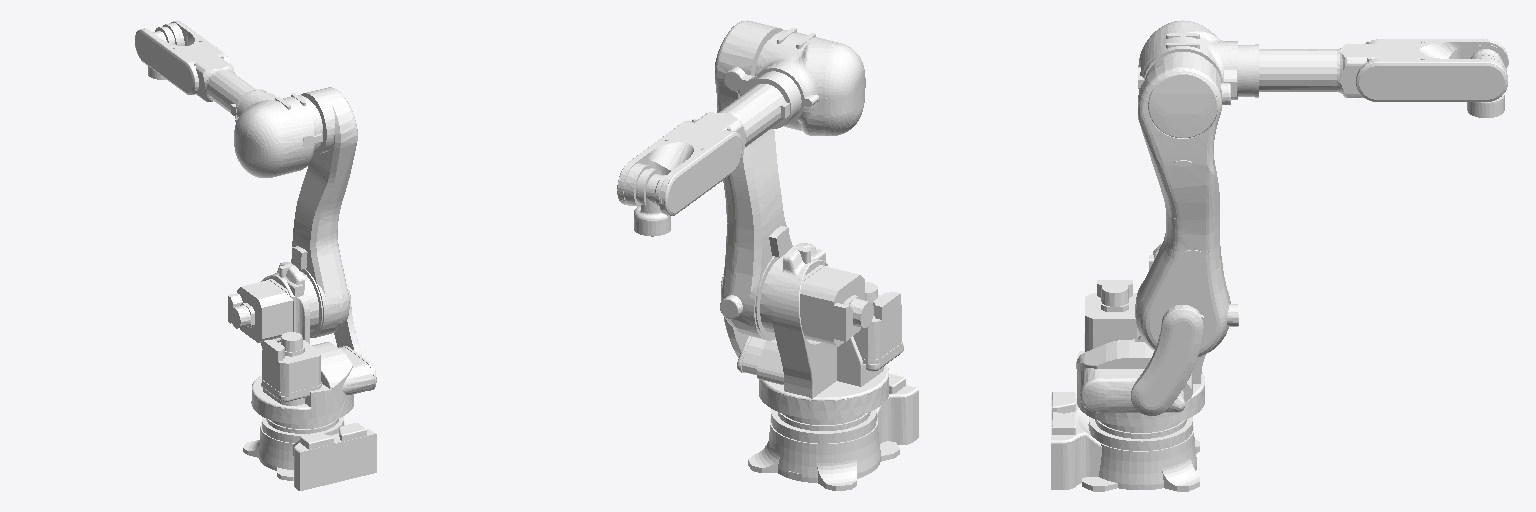
robot.urdf — RS050N:
<?xml version="1.0" encoding="utf-8"?>
<!-- This URDF was automatically created by SolidWorks to URDF Exporter! Originally created by [author] ([email redacted]) 
     Commit Version: 1.6.0-1-g15f4949  Build Version: 1.6.7594.29634
     For more information, please see http://wiki.ros.org/sw_urdf_exporter -->
<robot
  name="RS050N">
  <link
    name="base_link">
    <inertial>
      <origin
        xyz="0.00742648077812003 0.130532781305898 0.539889091899929"
        rpy="0 0 0" />
      <mass
        value="69.2070622813774" />
      <inertia
        ixx="12.9227817485323"
        ixy="-0.158175525824521"
        ixz="0.106068509088432"
        iyy="5.71291707523663"
        iyz="-5.22586394861461"
        izz="9.78091264066812" />
    </inertial>
    <visual>
      <origin
        xyz="0 0 0"
        rpy="0 0 0" />
      <geometry>
        <mesh
          filename="package://RS050N/meshes/base_link.STL" />
      </geometry>
      <material
        name="">
        <color
          rgba="1 1 1 1" />
      </material>
    </visual>
    <collision>
      <origin
        xyz="0 0 0"
        rpy="0 0 0" />
      <geometry>
        <mesh
          filename="package://RS050N/meshes/base_link.STL" />
      </geometry>
    </collision>
  </link>
  <link
    name="link1">
    <inertial>
      <origin
        xyz="0.0053223001572111 0.0323676928198307 0.229852478564141"
        rpy="0 0 0" />
      <mass
        value="63.5345279442379" />
      <inertia
        ixx="2.52682716104238"
        ixy="0.00204857333931697"
        ixz="0.207966622157758"
        iyy="2.54103506695411"
        iyz="-0.581518601705952"
        izz="2.04518113651926" />
    </inertial>
    <visual>
      <origin
        xyz="0 0 0"
        rpy="0 0 0" />
      <geometry>
        <mesh
          filename="package://RS050N/meshes/link1.STL" />
      </geometry>
      <material
        name="">
        <color
          rgba="1 1 1 1" />
      </material>
    </visual>
    <collision>
      <origin
        xyz="0 0 0"
        rpy="0 0 0" />
      <geometry>
        <mesh
          filename="package://RS050N/meshes/link1.STL" />
      </geometry>
    </collision>
  </link>
  <joint
    name="link1"
    type="revolute">
    <origin
      xyz="0 0 0.249"
      rpy="0 0 0" />
    <parent
      link="base_link" />
    <child
      link="link1" />
    <axis
      xyz="0 0 -1" />
    <limit
      lower="-6.28318530717959"
      upper="6.28318530717959"
      effort="0"
      velocity="0" />
  </joint>
  <link
    name="link2">
    <inertial>
      <origin
        xyz="-0.0840727368921679 -0.0196159709826695 -0.14021412782126"
        rpy="0 0 0" />
      <mass
        value="69.2070622813774" />
      <inertia
        ixx="12.9227817485323"
        ixy="-0.158175525824521"
        ixz="0.106068509088433"
        iyy="5.71291707523663"
        iyz="-5.22586394861461"
        izz="9.78091264066812" />
    </inertial>
    <visual>
      <origin
        xyz="0 0 0"
        rpy="0 0 0" />
      <geometry>
        <mesh
          filename="package://RS050N/meshes/link2.STL" />
      </geometry>
      <material
        name="">
        <color
          rgba="1 1 1 1" />
      </material>
    </visual>
    <collision>
      <origin
        xyz="0 0 0"
        rpy="0 0 0" />
      <geometry>
        <mesh
          filename="package://RS050N/meshes/link2.STL" />
      </geometry>
    </collision>
  </link>
  <joint
    name="link2"
    type="revolute">
    <origin
      xyz="0.0915 0.15015 0.4311"
      rpy="0 0 0" />
    <parent
      link="link1" />
    <child
      link="link2" />
    <axis
      xyz="-1 0 0" />
    <limit
      lower="-6.28318530717959"
      upper="6.28318530717959"
      effort="0"
      velocity="0" />
  </joint>
  <link
    name="link3">
    <inertial>
      <origin
        xyz="-0.122572736892168 -0.0194667900963776 -1.01011090809545"
        rpy="0 0 0" />
      <mass
        value="69.2070622813774" />
      <inertia
        ixx="12.9227817485323"
        ixy="-0.158175525824521"
        ixz="0.106068509088433"
        iyy="5.71291707523663"
        iyz="-5.22586394861461"
        izz="9.78091264066812" />
    </inertial>
    <visual>
      <origin
        xyz="0 0 0"
        rpy="0 0 0" />
      <geometry>
        <mesh
          filename="package://RS050N/meshes/link3.STL" />
      </geometry>
      <material
        name="">
        <color
          rgba="1 1 1 1" />
      </material>
    </visual>
    <collision>
      <origin
        xyz="0 0 0"
        rpy="0 0 0" />
      <geometry>
        <mesh
          filename="package://RS050N/meshes/link3.STL" />
      </geometry>
    </collision>
  </link>
  <joint
    name="link3"
    type="revolute">
    <origin
      xyz="0.0385 -0.00014918 0.8699"
      rpy="0 0 0" />
    <parent
      link="link2" />
    <child
      link="link3" />
    <axis
      xyz="-1 0 0" />
    <limit
      lower="-6.28318530717959"
      upper="6.28318530717959"
      effort="0"
      velocity="0" />
  </joint>
  <link
    name="link4">
    <inertial>
      <origin
        xyz="0.0224272630844705 -0.21396679009824 -1.01011090808671"
        rpy="0 0 0" />
      <mass
        value="69.2070622813774" />
      <inertia
        ixx="12.9227817485323"
        ixy="-0.158175525824521"
        ixz="0.106068509088433"
        iyy="5.71291707523663"
        iyz="-5.22586394861461"
        izz="9.78091264066812" />
    </inertial>
    <visual>
      <origin
        xyz="0 0 0"
        rpy="0 0 0" />
      <geometry>
        <mesh
          filename="package://RS050N/meshes/link4.STL" />
      </geometry>
      <material
        name="">
        <color
          rgba="1 1 1 1" />
      </material>
    </visual>
    <collision>
      <origin
        xyz="0 0 0"
        rpy="0 0 0" />
      <geometry>
        <mesh
          filename="package://RS050N/meshes/link4.STL" />
      </geometry>
    </collision>
  </link>
  <joint
    name="link4"
    type="revolute">
    <origin
      xyz="-0.145 0.1945 0"
      rpy="0 0 0" />
    <parent
      link="link3" />
    <child
      link="link4" />
    <axis
      xyz="0 -1 0" />
    <limit
      lower="-6.28318530717959"
      upper="6.28318530717959"
      effort="0"
      velocity="0" />
  </joint>
  <link
    name="link5">
    <inertial>
      <origin
        xyz="0.00742726310783219 -1.09946702890103 -1.0101109081466"
        rpy="0 0 0" />
      <mass
        value="69.2070622813774" />
      <inertia
        ixx="12.9227817485323"
        ixy="-0.158175525824521"
        ixz="0.106068509088433"
        iyy="5.71291707523663"
        iyz="-5.22586394861461"
        izz="9.78091264066811" />
    </inertial>
    <visual>
      <origin
        xyz="0 0 0"
        rpy="0 0 0" />
      <geometry>
        <mesh
          filename="package://RS050N/meshes/link5.STL" />
      </geometry>
      <material
        name="">
        <color
          rgba="1 1 1 1" />
      </material>
    </visual>
    <collision>
      <origin
        xyz="0 0 0"
        rpy="0 0 0" />
      <geometry>
        <mesh
          filename="package://RS050N/meshes/link5.STL" />
      </geometry>
    </collision>
  </link>
  <joint
    name="link5"
    type="revolute">
    <origin
      xyz="0.015 0.8855 0"
      rpy="0 0 0" />
    <parent
      link="link4" />
    <child
      link="link5" />
    <axis
      xyz="-1 0 0" />
    <limit
      lower="-6.28318530717959"
      upper="6.28318530717959"
      effort="0"
      velocity="0" />
  </joint>
  <link
    name="link6">
    <inertial>
      <origin
        xyz="0.0460112341158396 -3.7805156960502E-06 -0.170988870920515"
        rpy="0 0 0" />
      <mass
        value="5.67263850688101" />
      <inertia
        ixx="0.00856568804371597"
        ixy="2.36182117287567E-08"
        ixz="2.5802982892614E-07"
        iyy="0.0617988129237675"
        iyz="7.03772837560501E-07"
        izz="0.066925691103506" />
    </inertial>
    <visual>
      <origin
        xyz="0 0 0"
        rpy="0 0 0" />
      <geometry>
        <mesh
          filename="package://RS050N/meshes/link6.STL" />
      </geometry>
      <material
        name="">
        <color
          rgba="0.752941176470588 0.752941176470588 0.752941176470588 1" />
      </material>
    </visual>
    <collision>
      <origin
        xyz="0 0 0"
        rpy="0 0 0" />
      <geometry>
        <mesh
          filename="package://RS050N/meshes/link6.STL" />
      </geometry>
    </collision>
  </link>
  <joint
    name="link6"
    type="revolute">
    <origin
      xyz="-0.015 0 -0.1555"
      rpy="0 0 0" />
    <parent
      link="link5" />
    <child
      link="link6" />
    <axis
      xyz="0 0 -1" />
    <limit
      lower="-6.28318530717959"
      upper="6.28318530717959"
      effort="0"
      velocity="0" />
  </joint>
</robot>

--- Facts derived from the render (not from the file) ---
Views: 3 orthographic renders of the robot side by side, from view 1: azimuth 30°, elevation 25°; view 2: azimuth 150°, elevation 25°; view 3: azimuth 270°, elevation 25°.
Robot: RS050N — 7 links, 6 joints (6 revolute); root link base_link; default pose: every joint at zero.
Links seen in each view (by area): view 1: link1, link2, base_link, link3, link4; view 2: link1, link2, base_link, link4, link3, link5; view 3: link2, link1, link4, base_link, link3, link5.
Link boxes in pixels (box(x1,y1,x2,y2)): link1: box(228, 262, 376, 424); link2: box(291, 87, 357, 337); base_link: box(243, 416, 376, 490); link3: box(234, 89, 322, 177); link4: box(135, 21, 254, 115); link1: box(721, 243, 903, 419); link2: box(715, 20, 792, 340); base_link: box(748, 374, 918, 490); link4: box(617, 84, 789, 215); link3: box(740, 28, 865, 135); link5: box(629, 164, 670, 235); link2: box(1135, 52, 1238, 357); link1: box(1076, 244, 1205, 427); link4: box(1259, 39, 1508, 101); base_link: box(1051, 392, 1199, 491); link3: box(1138, 20, 1258, 99); link5: box(1467, 49, 1506, 117).
Bounding box of the posed robot: 0.567 × 1.63 × 1.69 m (x, y, z).
7 mesh visuals loaded from 7 distinct referenced files (7 binary STL).